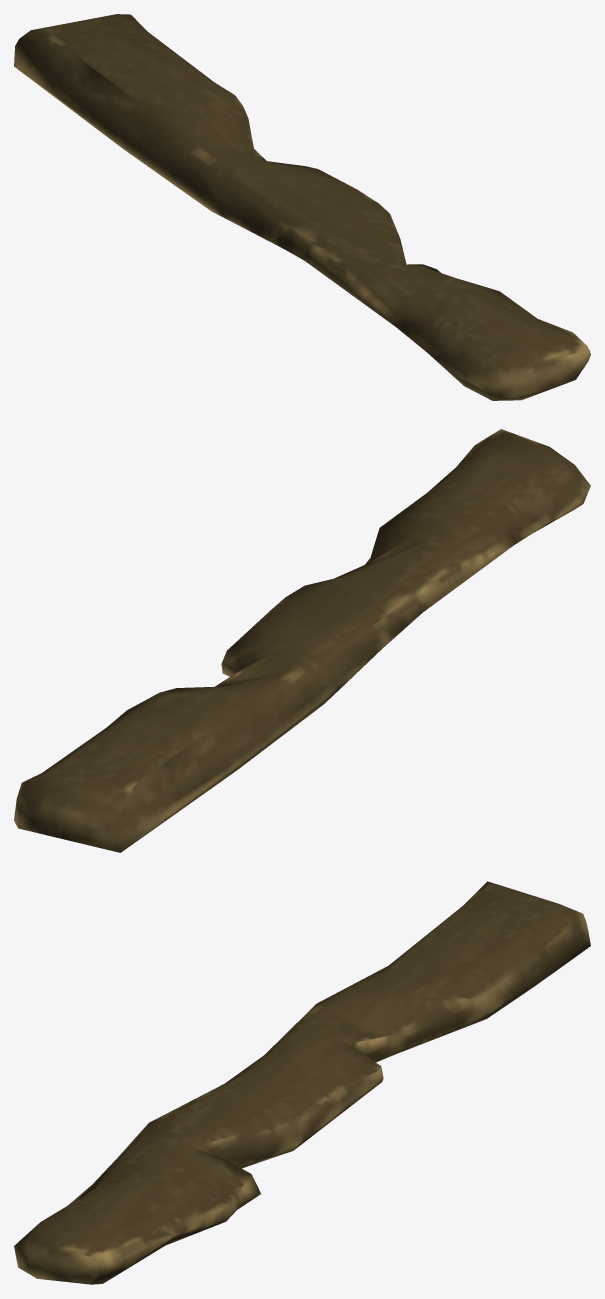
File: board_02.fbx
3 views of the same model, one above another, from view 1: azimuth 30°, elevation 25°; view 2: azimuth 150°, elevation 25°; view 3: azimuth 330°, elevation 25° (orthographic). The views are drawn at different scales.
Parts seen in each view (by area): view 1: Cylinder.005; view 2: Cylinder.005; view 3: Cylinder.005.
Boxes of the visible parts, box(x1,y1,x2,y2) form: Cylinder.005: box(14, 14, 590, 400); Cylinder.005: box(14, 429, 590, 852); Cylinder.005: box(14, 881, 590, 1284).
Size of the model in its own units: 86.89 by 35.77 by 587.
